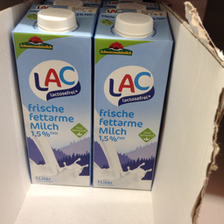milk: (8, 6, 96, 188), (95, 5, 174, 193)
